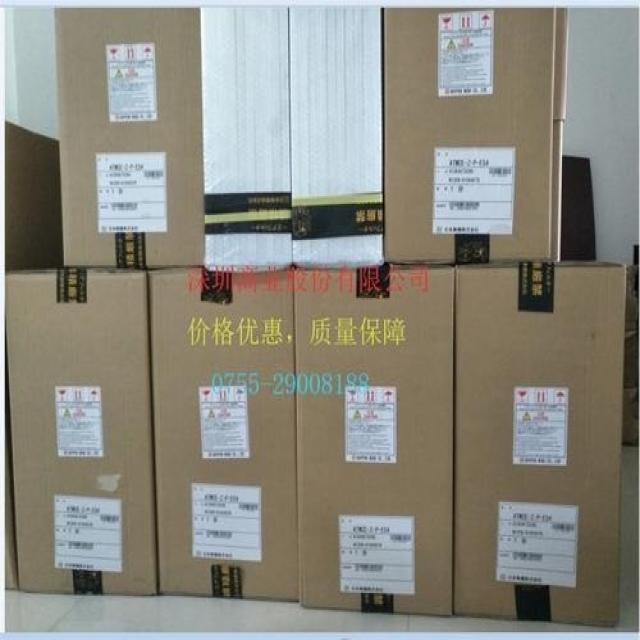box: (454, 260, 625, 626), (296, 264, 456, 616), (5, 270, 160, 598), (148, 267, 297, 602), (384, 6, 567, 264), (55, 5, 204, 268), (289, 5, 384, 267), (200, 5, 292, 268), (5, 122, 65, 273)
